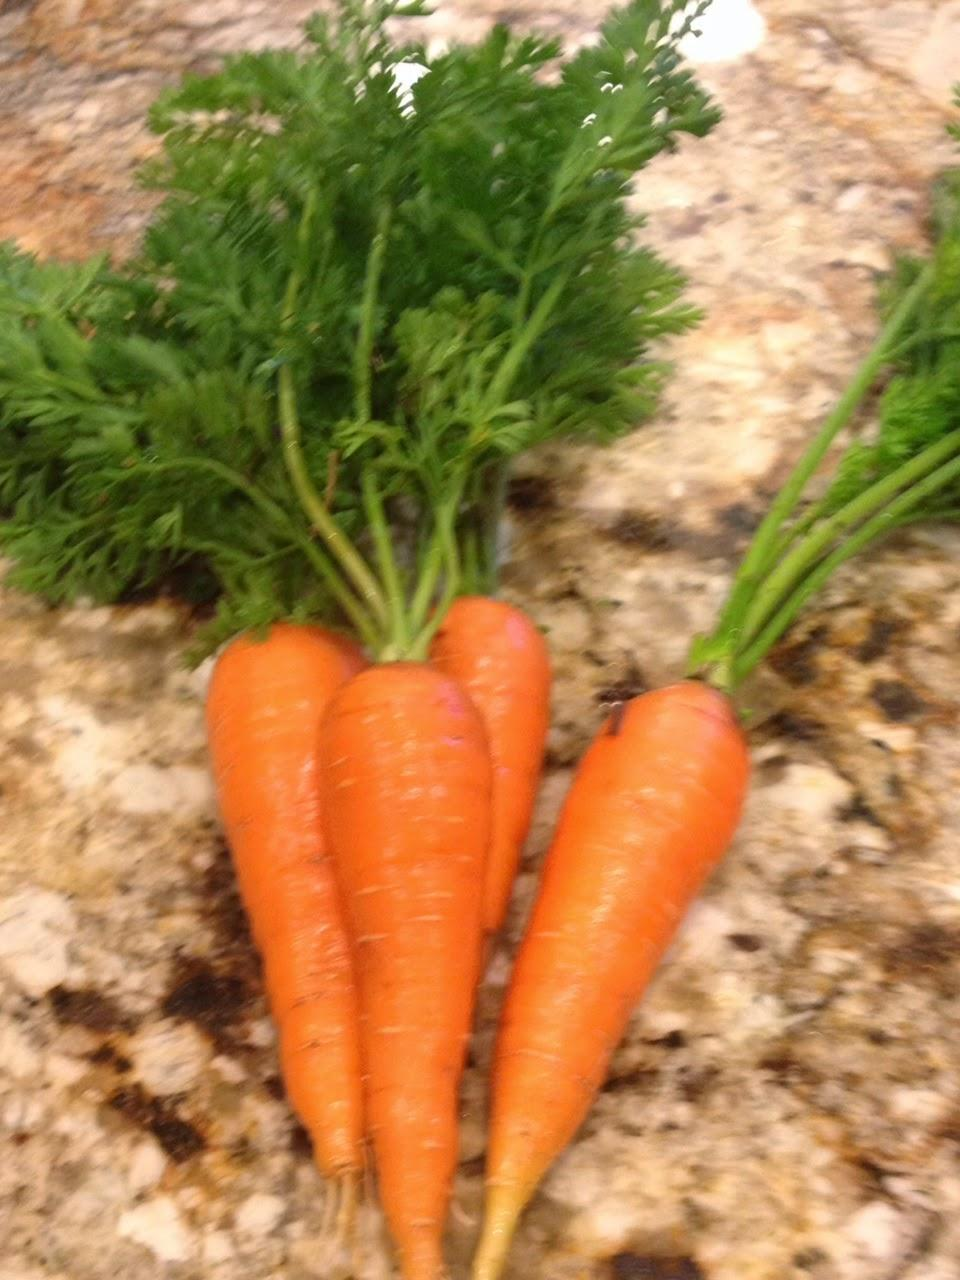carrot: (468, 678, 751, 1278), (320, 658, 492, 1278), (203, 620, 369, 1258), (428, 592, 552, 1051)
